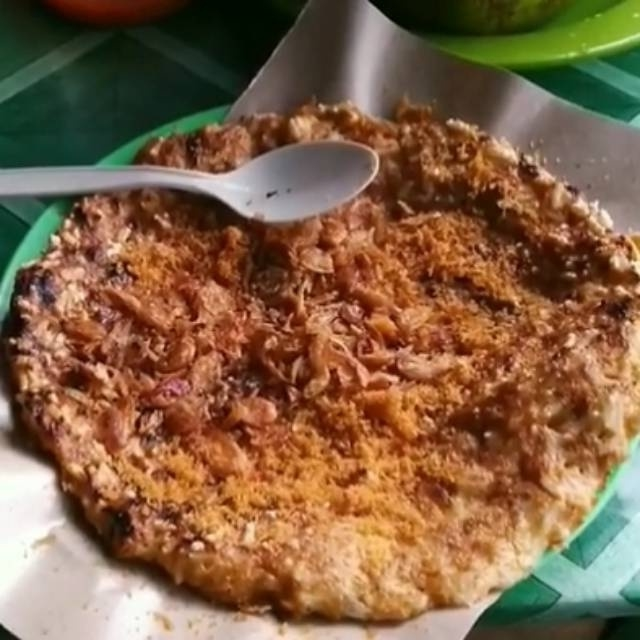kerak_telor: (9, 105, 639, 625)
